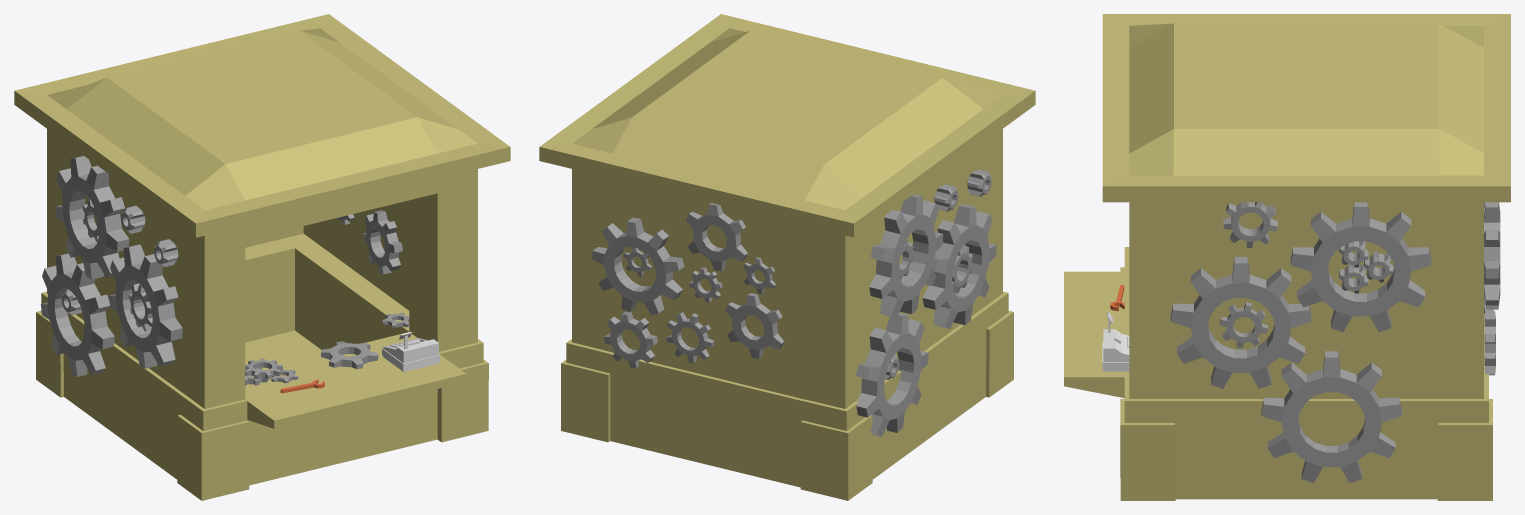
The model's file is Tienda_2.glb.
3 renders of one model, left to right at view 1: azimuth 30°, elevation 25°; view 2: azimuth 150°, elevation 25°; view 3: azimuth 270°, elevation 25°, orthographic. The views are drawn at different scales.
Parts seen in each view (by area): view 1: Cube.006, Cylinder, Cube.007; view 2: Cube.006, Cylinder; view 3: Cube.006, Cylinder, Cube.007.
Boxes of the visible parts, x1,y1,x2,y2 form: Cube.006: (14,14,510,500); Cylinder: (40,155,409,385); Cube.007: (382,332,440,371); Cube.006: (539,14,1035,500); Cylinder: (592,169,996,436); Cube.006: (1064,14,1510,500); Cylinder: (1170,202,1500,482); Cube.007: (1102,311,1129,371).
Bounding box in the file's own units: 2.3 × 2.15 × 2.52.
